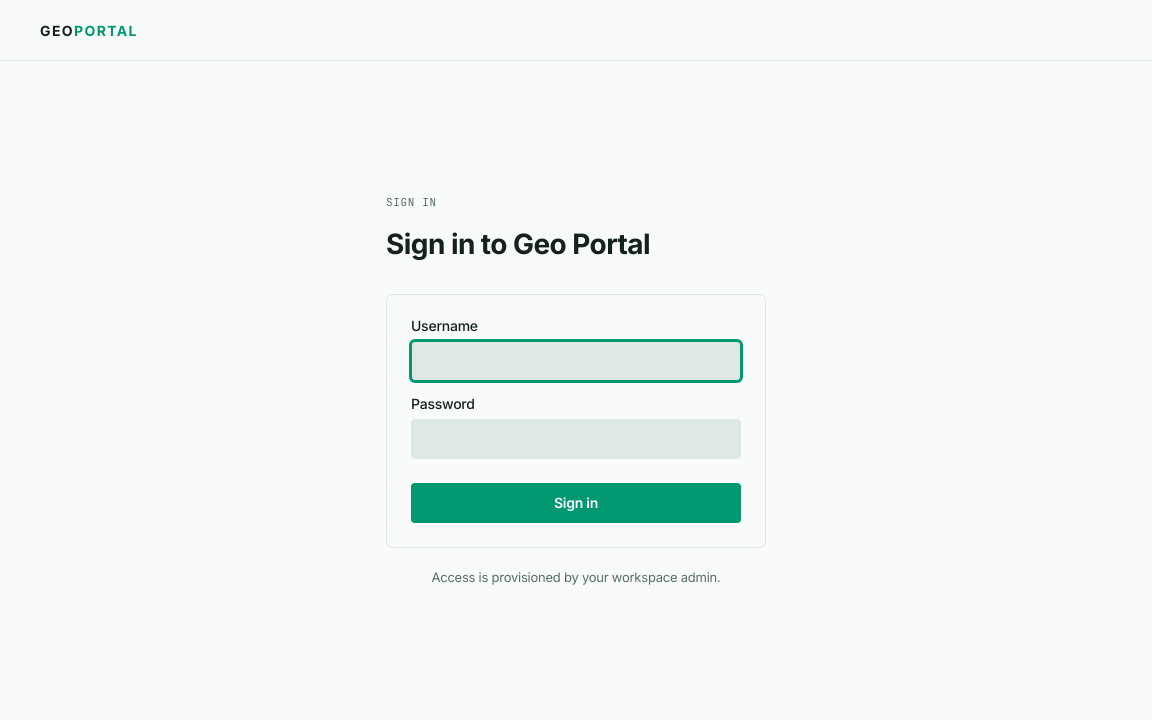
it: sign-in form › reports bad credentials inline without navigating
Expected: the heading "Sign in to Geo Portal" is shown, [386, 226, 650, 260]
In the field labelled "Username": {"x": 576, "y": 360} [411, 340, 741, 380], type "viewer1"
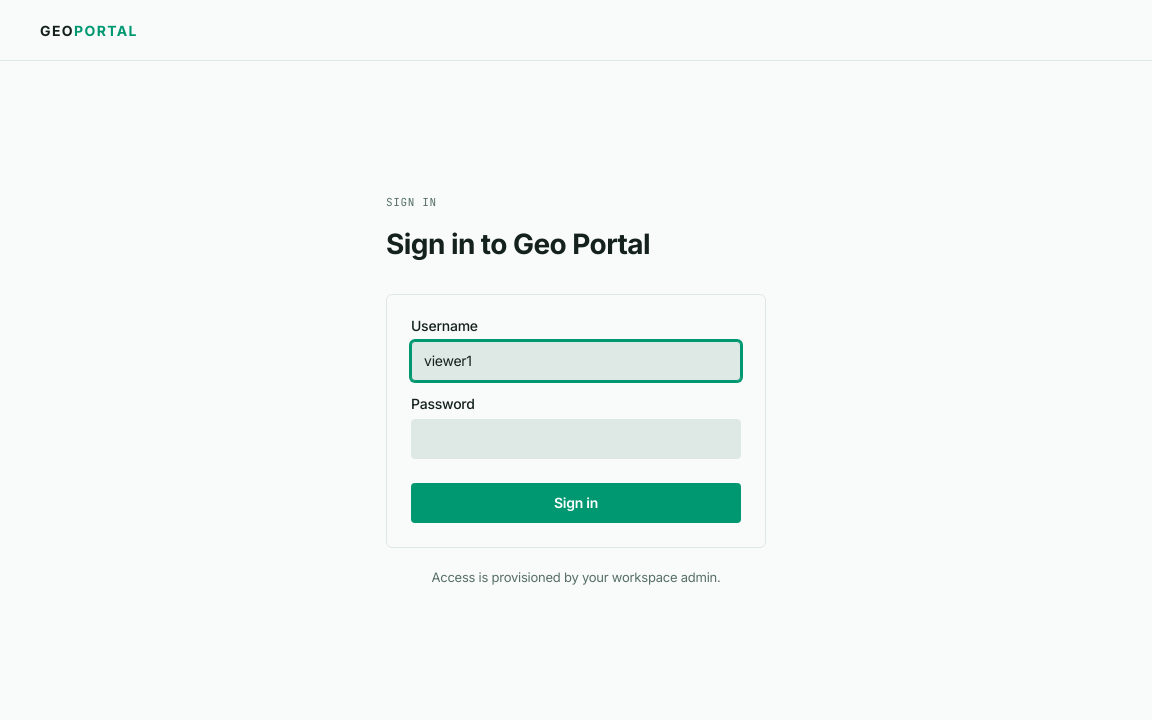
In the password field labelled "Password": {"x": 576, "y": 438} [411, 418, 741, 458], type "wrong"
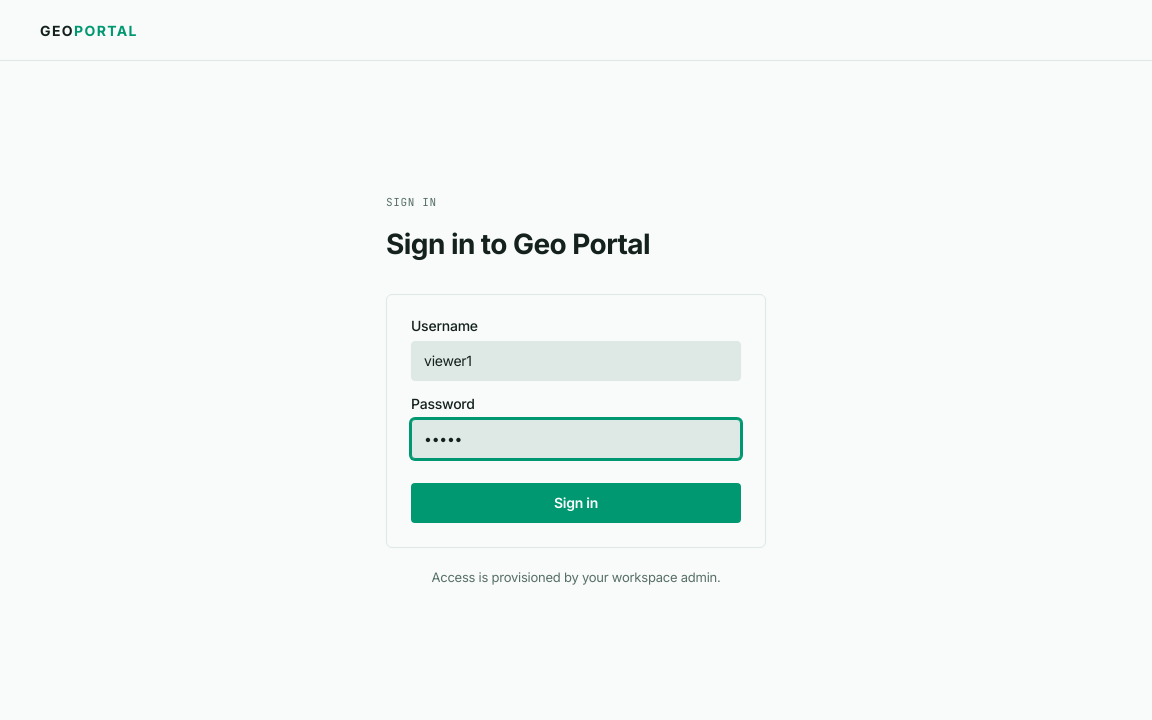
Click the button "Sign in": {"x": 576, "y": 502} [411, 482, 741, 522]
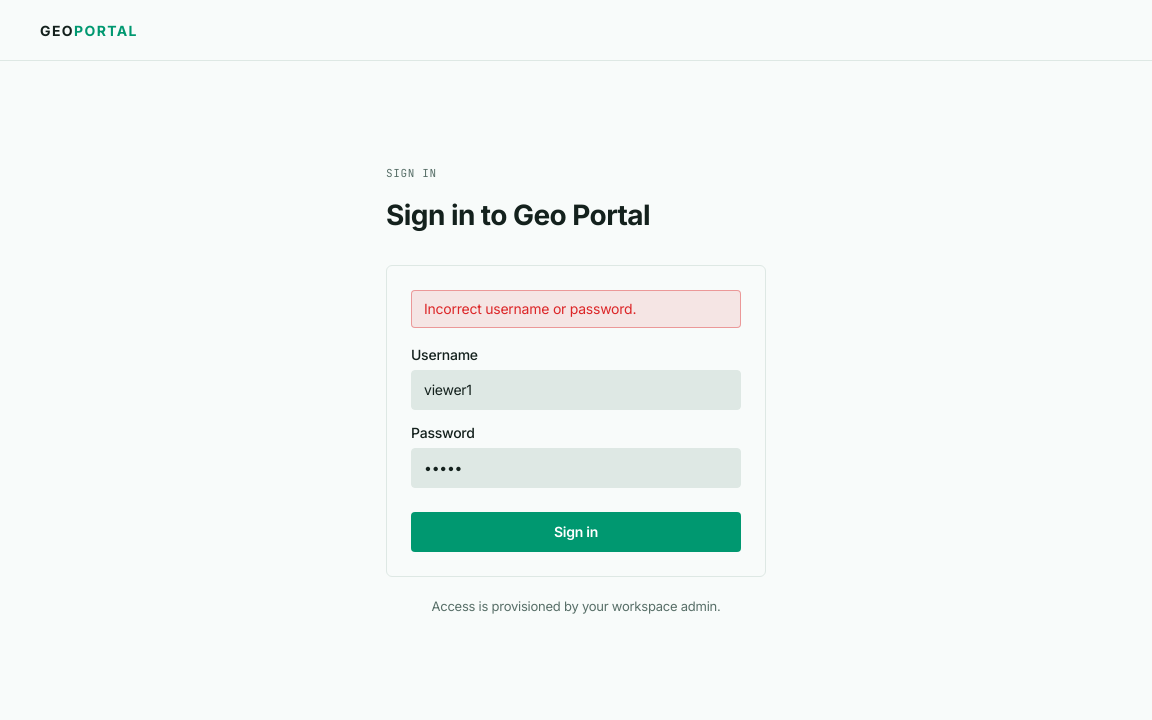
Expected: the heading "Sign in to Geo Portal" is shown, [386, 198, 650, 232]
Now the message shows "Incorrect username or password", box [424, 300, 636, 316]
